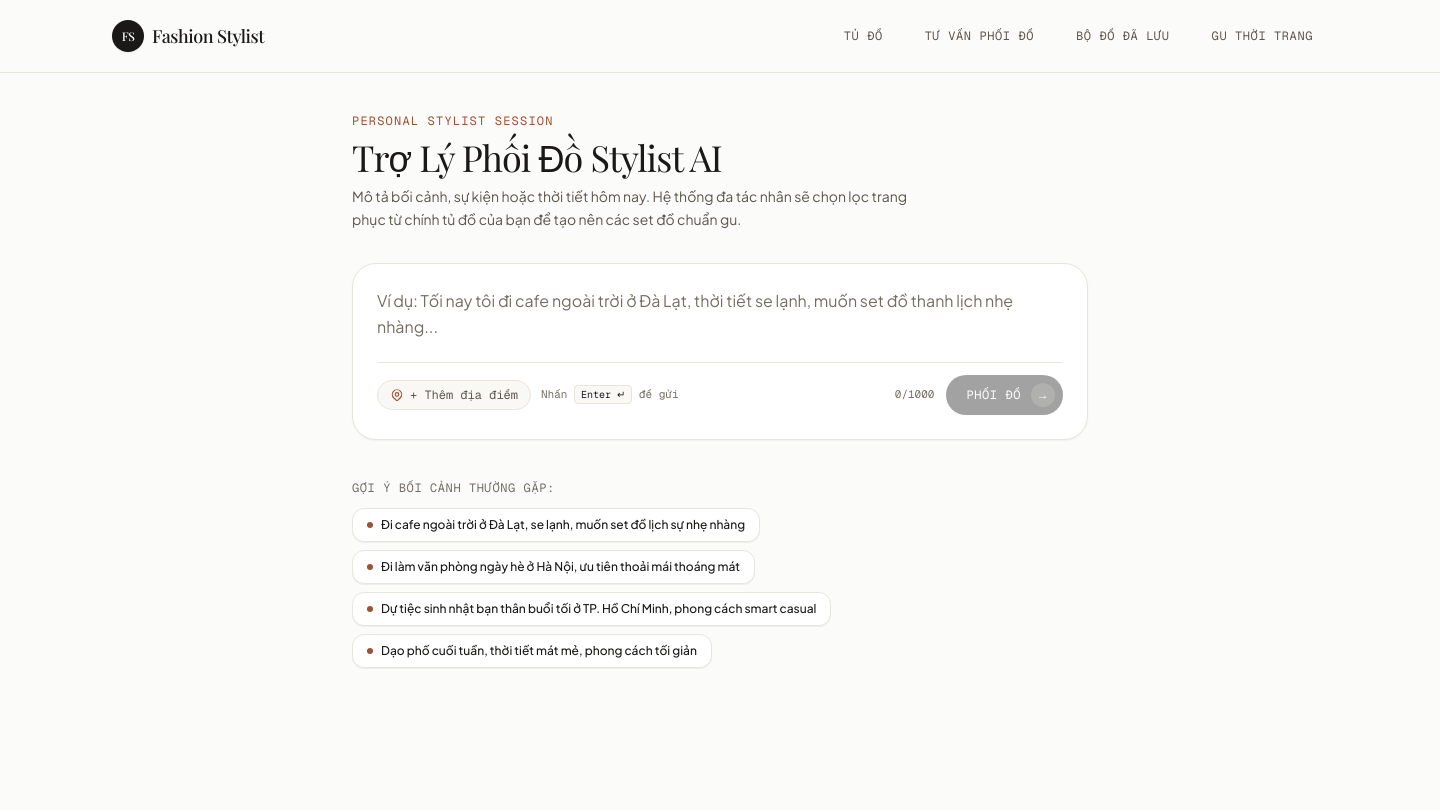
Test: Chat Page & Components Integration › renders domain error NO_COMPLETE_OUTFIT with contextual guidance
This screenshot has width=1440, height=810.
Replace the text in the text box named "Nhu cầu phối đồ của bạn" with "Đi dạ hội sang trọng": (720, 314) [377,288,1063,340]
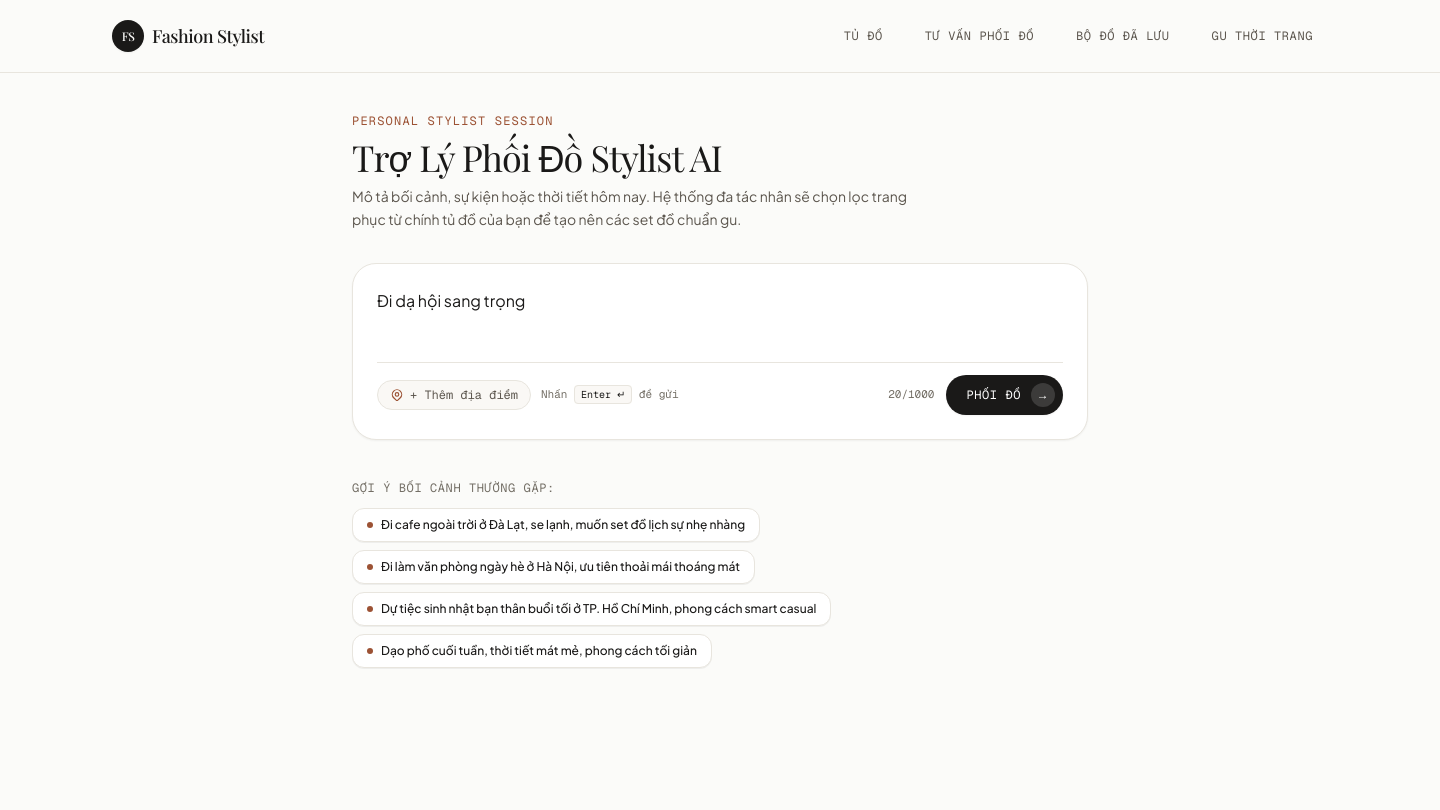
Click the button "Phối Đồ →": (1005, 394) [946,374,1063,414]
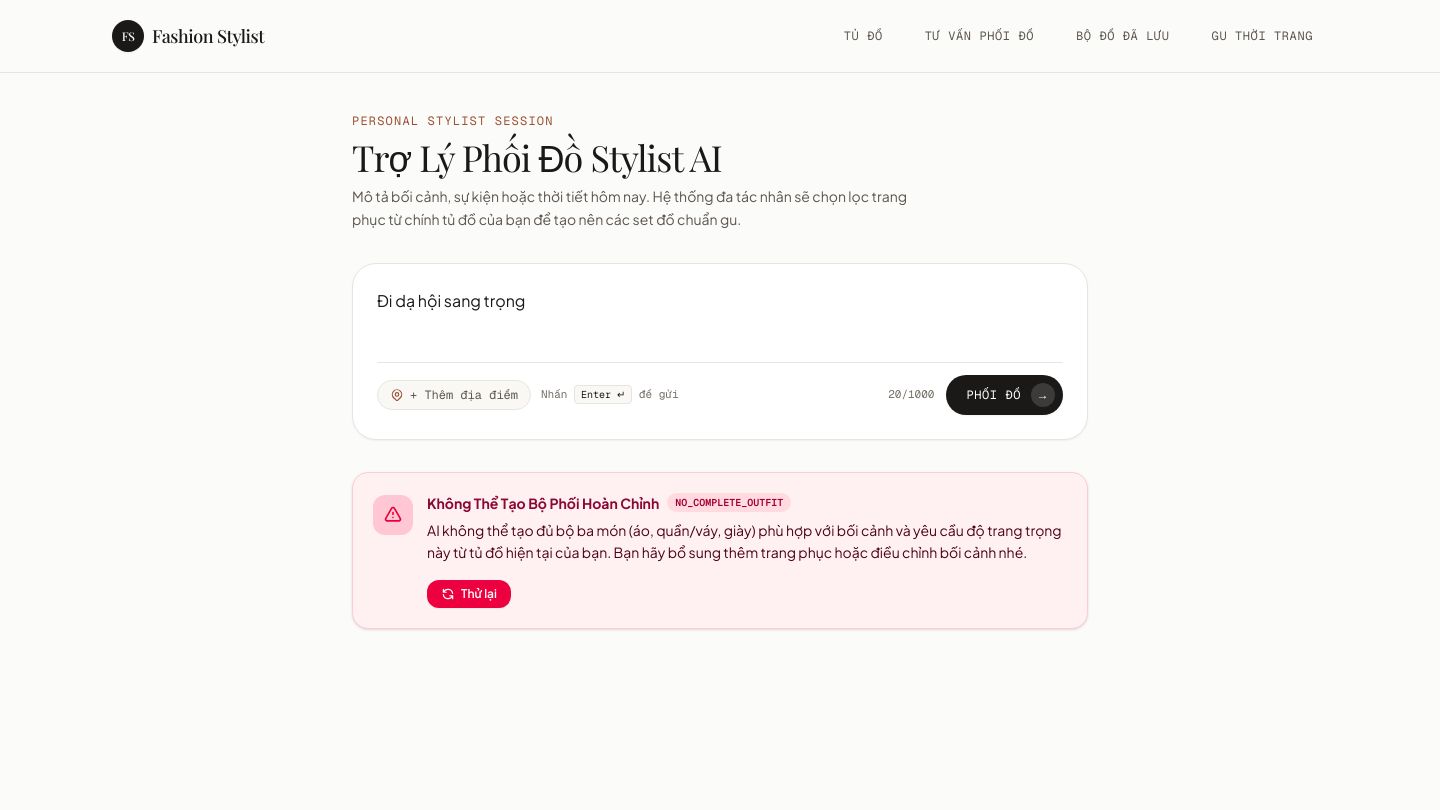
Now the message is shown, box [352,472,1088,629]
Now the heading "Không Thể Tạo Bộ Phối Hoàn Chỉnh" is shown, box [427,492,659,512]
